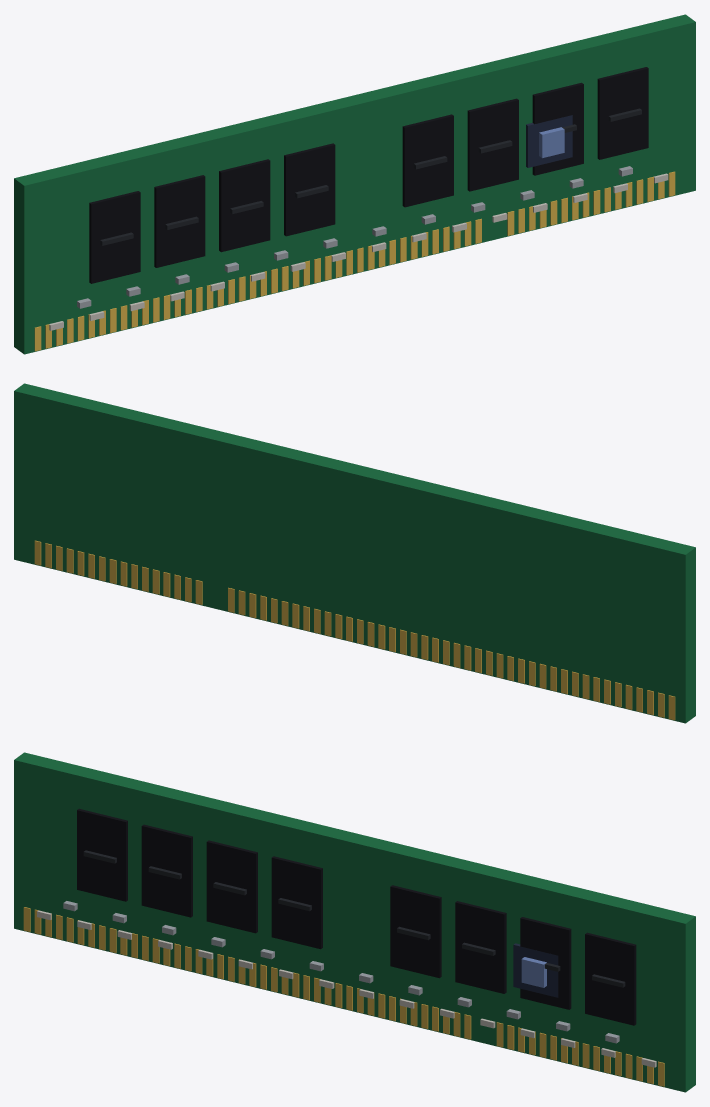
File: software_memory.glb
The picture shows the model from 3 angles, top to bottom: view 1: azimuth 30°, elevation 25°; view 2: azimuth 150°, elevation 25°; view 3: azimuth 330°, elevation 25°; orthographic projection.
Parts seen in each view (by area): view 1: pcb_geo, dram_geo, contacts_geo, pmic_geo; view 2: pcb_geo, contacts_geo; view 3: pcb_geo, dram_geo, contacts_geo, pmic_geo.
Boxes of the visible parts, bbox=[...] form: pcb_geo: bbox=[14, 14, 695, 354]; dram_geo: bbox=[89, 67, 648, 283]; contacts_geo: bbox=[34, 171, 675, 351]; pmic_geo: bbox=[526, 115, 572, 167]; pcb_geo: bbox=[14, 383, 695, 723]; contacts_geo: bbox=[34, 540, 675, 720]; pcb_geo: bbox=[14, 752, 695, 1092]; dram_geo: bbox=[77, 808, 636, 1025]; contacts_geo: bbox=[23, 907, 664, 1086]; pmic_geo: bbox=[513, 943, 558, 997].
Size of the model in its own units: 1.5 by 0.36 by 0.062.
